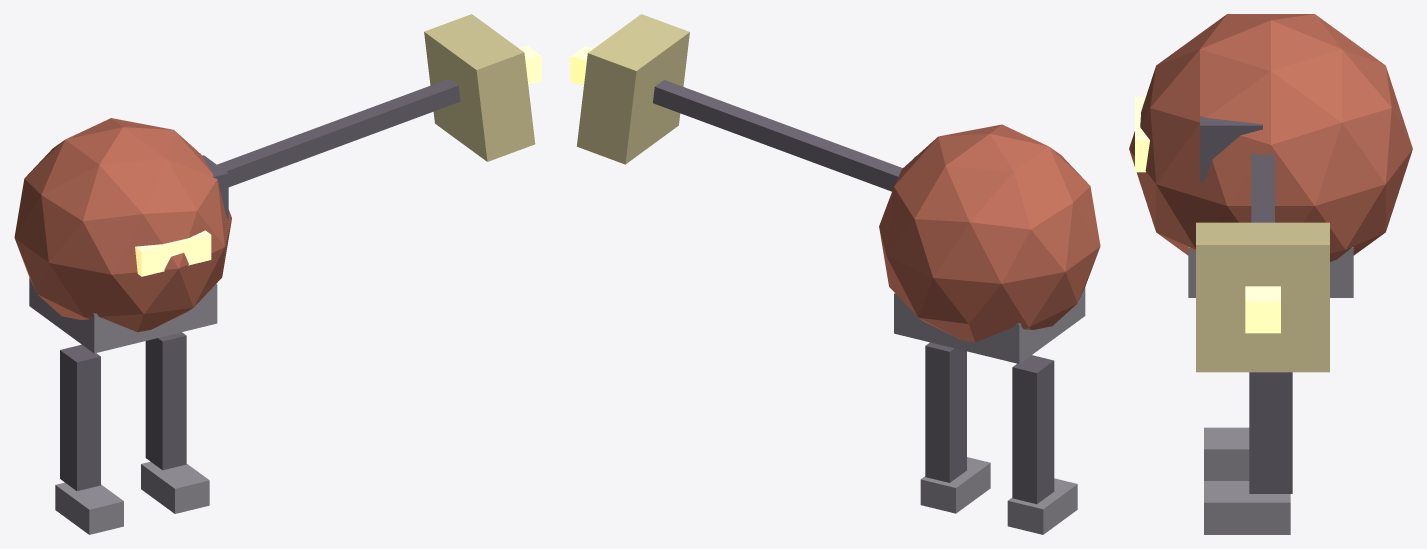
File: enemy_runner.glb
3 renders of one model, left to right at view 1: azimuth 30°, elevation 25°; view 2: azimuth 150°, elevation 25°; view 3: azimuth 270°, elevation 25°, orthographic. The views are drawn at different scales.
Visible parts, largest first — view 1: Body, Bristle, Handle, Leg-1, Leg1, Collar, Foot-1, Foot1, Eye; view 2: Body, Bristle, Handle, Leg-1, Leg1, Collar, Foot1, Foot-1; view 3: Body, Bristle, Leg1, Foot1, Foot-1, Grip, SparkTip, Handle, Collar, Eye.
Boxes of the visible parts, x1,y1,x2,y2 form: Body: (14,118,231,332); Bristle: (424,14,535,161); Handle: (217,78,460,187); Leg-1: (60,344,100,490); Leg1: (145,332,186,470); Collar: (29,277,217,353); Foot-1: (55,482,123,534); Foot1: (141,461,209,513); Eye: (135,230,211,276); Body: (879,124,1100,342); Bristle: (576,14,689,164); Handle: (653,80,902,191); Leg-1: (1012,355,1054,504); Leg1: (925,342,966,482); Collar: (894,287,1085,363); Foot1: (920,457,990,513); Foot-1: (1007,478,1077,534); Body: (1129,14,1412,261); Bristle: (1196,222,1329,372); Leg1: (1249,372,1292,493); Foot1: (1204,481,1290,534); Foot-1: (1204,427,1249,480); Grip: (1200,116,1262,182); SparkTip: (1245,286,1280,333); Handle: (1251,153,1274,222); Collar: (1188,247,1353,297); Eye: (1135,97,1149,172).
Size of the model in its own units: 1.87 by 1.35 by 0.72.
